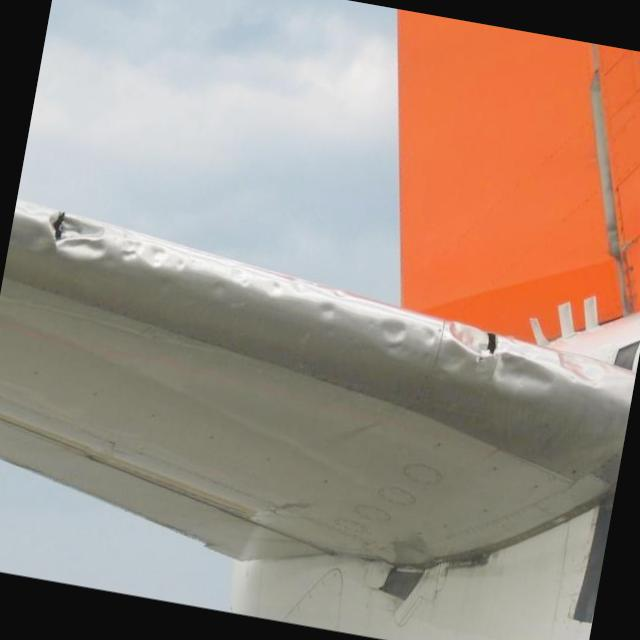dent: (1, 201, 618, 417)
